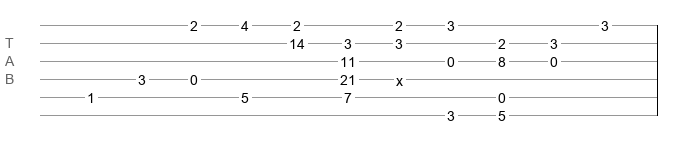0: (190, 72, 198, 82), (447, 54, 455, 64), (498, 90, 506, 100), (550, 54, 558, 64)
1: (87, 90, 95, 100)
11: (340, 54, 356, 64)
14: (289, 36, 305, 46)
2: (190, 18, 198, 28), (293, 18, 301, 28), (395, 18, 403, 28), (498, 36, 506, 46)
21: (340, 72, 356, 82)
3: (138, 72, 146, 82), (344, 36, 352, 46), (395, 36, 403, 46), (447, 18, 455, 28), (447, 108, 455, 118), (550, 36, 558, 46), (601, 18, 609, 28)
4: (241, 18, 249, 28)
5: (241, 90, 249, 100), (498, 108, 506, 118)
7: (344, 90, 352, 100)
8: (498, 54, 506, 64)
x: (396, 73, 403, 81)
